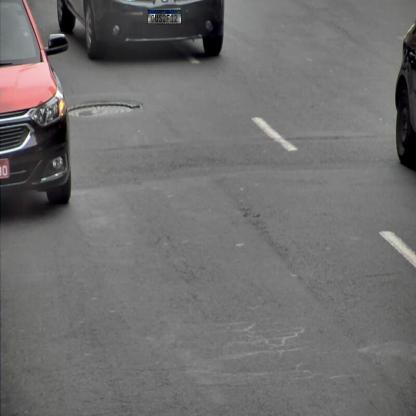PlacaM: (147, 10, 182, 24)
